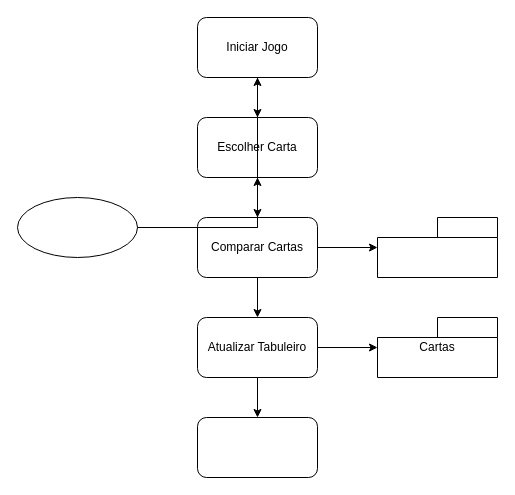
Some shapes in this 515 by 495 pixel diagram are drawn without their labels. The centre of each missing label's shape, as x and y in pixels:
Estado do Tabuleiro: the point at 437,247
Usuário (Jogador): the point at 77,227
Verificar Fim do Jogo: the point at 257,447
